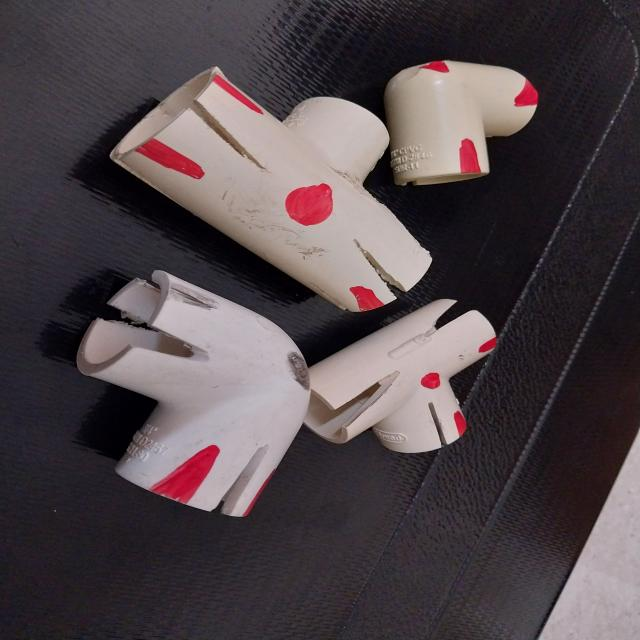Defective: (98, 296, 217, 360), (194, 98, 264, 171), (202, 452, 266, 518), (151, 448, 230, 500), (130, 137, 208, 184), (313, 378, 387, 414), (353, 240, 398, 294), (286, 186, 333, 227), (333, 162, 370, 200), (368, 374, 403, 406), (428, 402, 452, 448), (459, 142, 482, 180), (351, 289, 383, 308), (518, 83, 540, 105), (475, 339, 499, 355), (421, 373, 441, 390), (452, 412, 466, 434)
L Joint: (23, 275, 310, 541), (385, 64, 538, 180)
T Joint: (126, 59, 421, 325), (301, 297, 504, 447)
